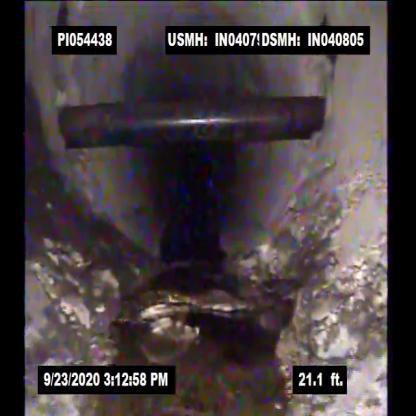Utility intrusion: (55, 92, 331, 154)
